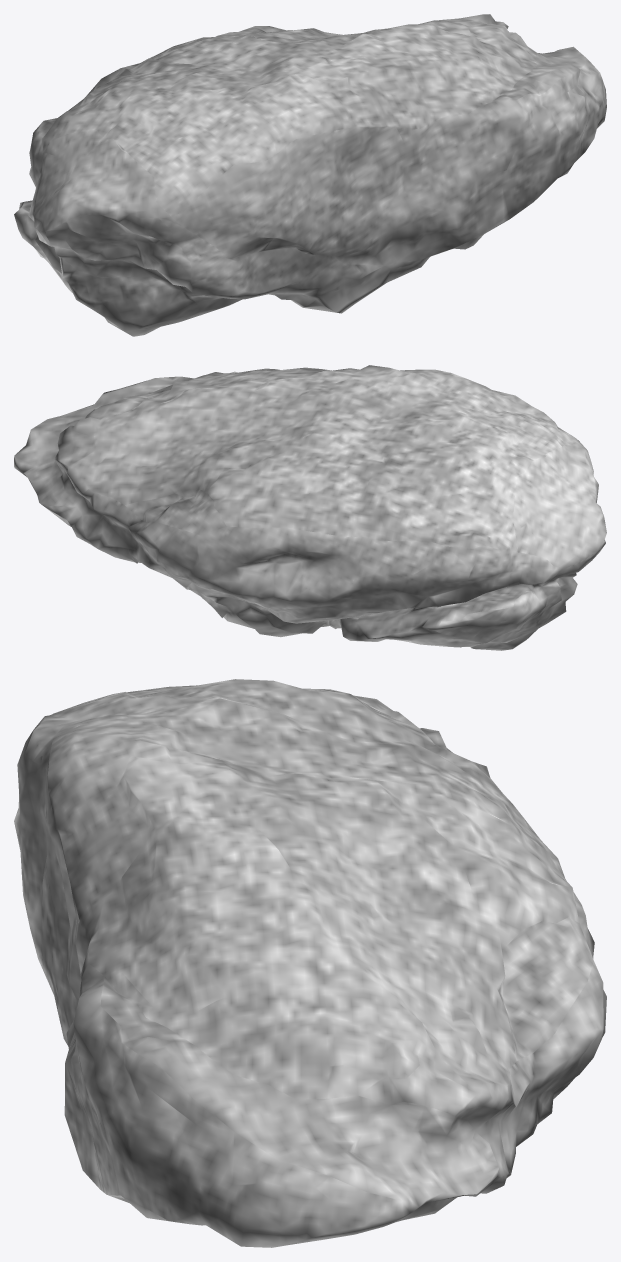
File: boulder-bench-lod1.glb
3 views of the same model, one above another, from view 1: azimuth 30°, elevation 25°; view 2: azimuth 150°, elevation 25°; view 3: azimuth 270°, elevation 25° (orthographic). The views are drawn at different scales.
Parts seen in each view (by area): view 1: namaqualand_boulder_05; view 2: namaqualand_boulder_05; view 3: namaqualand_boulder_05.
Part boxes in pixels (x1,y1,x2,y2): namaqualand_boulder_05: (14,14,606,336); namaqualand_boulder_05: (14,365,606,650); namaqualand_boulder_05: (14,679,606,1247).
Bounding box in the file's own units: 1.36 × 0.5362 × 0.7462.
Materials: 1 (1 with a texture image).
